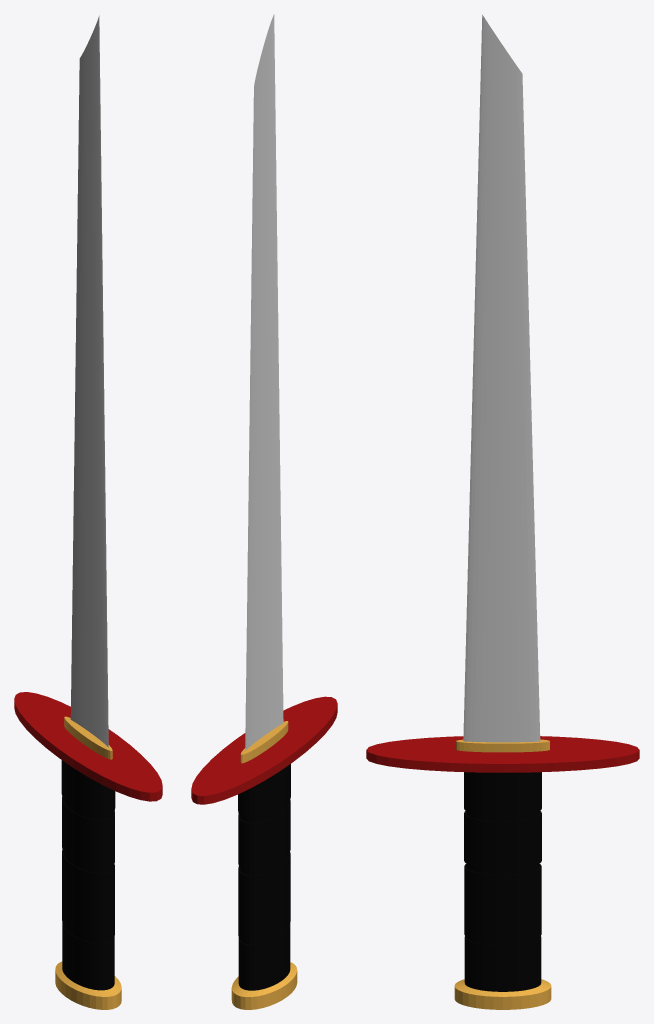
The model's file is sword.glb.
3 renders of one model, left to right at view 1: azimuth 30°, elevation 25°; view 2: azimuth 150°, elevation 25°; view 3: azimuth 270°, elevation 25°, orthographic.
Visible parts, largest first — view 1: blade, handle, handle-guard, handle.001, blade-support; view 2: blade, handle, handle-guard, handle.001, blade-support; view 3: blade, handle, handle-guard, handle.001, blade-support.
Part boxes in pixels (x1=…): blade: x1=70, y1=15, x2=108, y2=747; handle: x1=61, y1=760, x2=115, y2=990; handle-guard: x1=14, y1=692, x2=162, y2=801; handle.001: x1=55, y1=961, x2=121, y2=1009; blade-support: x1=64, y1=716, x2=112, y2=759; blade: x1=245, y1=14, x2=283, y2=750; handle: x1=238, y1=764, x2=290, y2=990; handle-guard: x1=191, y1=696, x2=337, y2=804; handle.001: x1=231, y1=962, x2=297, y2=1009; blade-support: x1=240, y1=721, x2=288, y2=763; blade: x1=463, y1=14, x2=540, y2=742; handle: x1=464, y1=772, x2=541, y2=991; handle-guard: x1=366, y1=736, x2=639, y2=772; handle.001: x1=454, y1=979, x2=551, y2=1009; blade-support: x1=456, y1=739, x2=549, y2=752.
Bounding box in the file's own units: 1.08 × 17.46 × 4.39.
